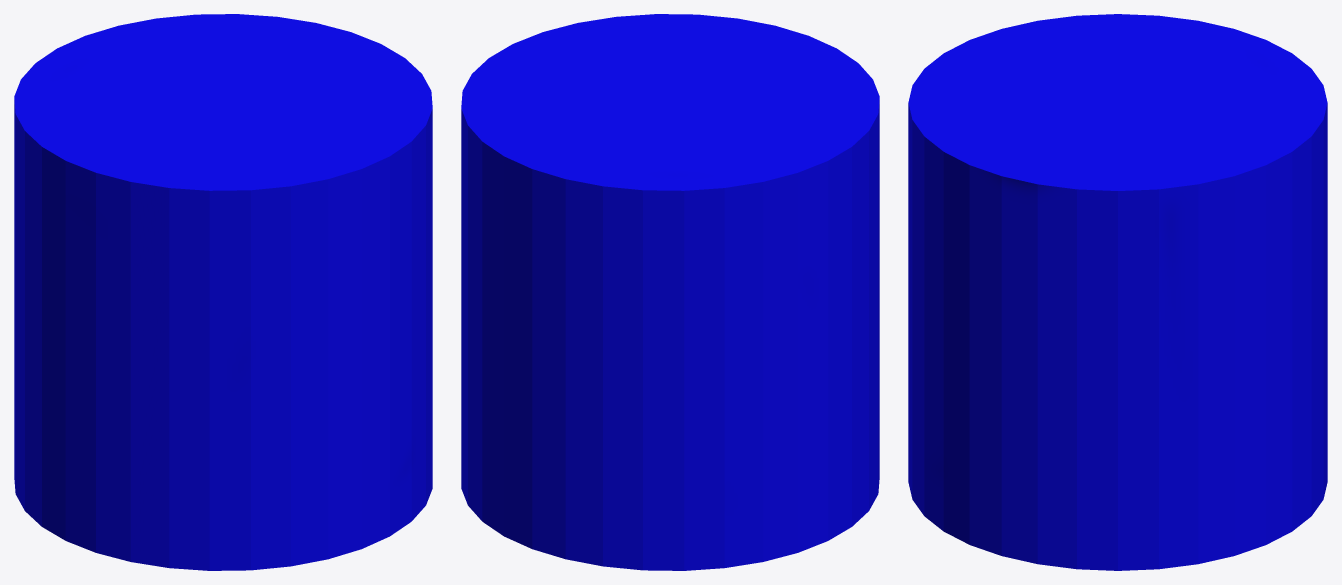
Rendered from player_Body3.obj.
3 views of the same model, side by side, from view 1: azimuth 30°, elevation 25°; view 2: azimuth 150°, elevation 25°; view 3: azimuth 270°, elevation 25° (orthographic).
Visible parts, largest first — view 1: 円柱.002; view 2: 円柱.002; view 3: 円柱.002.
Part boxes in pixels (x1,y1,x2,y2): 円柱.002: (14, 14, 432, 570); 円柱.002: (461, 14, 879, 570); 円柱.002: (908, 14, 1327, 570).
Size of the model in its own units: 2.56 by 2.56 by 2.56.
1 material, 1 textured.
